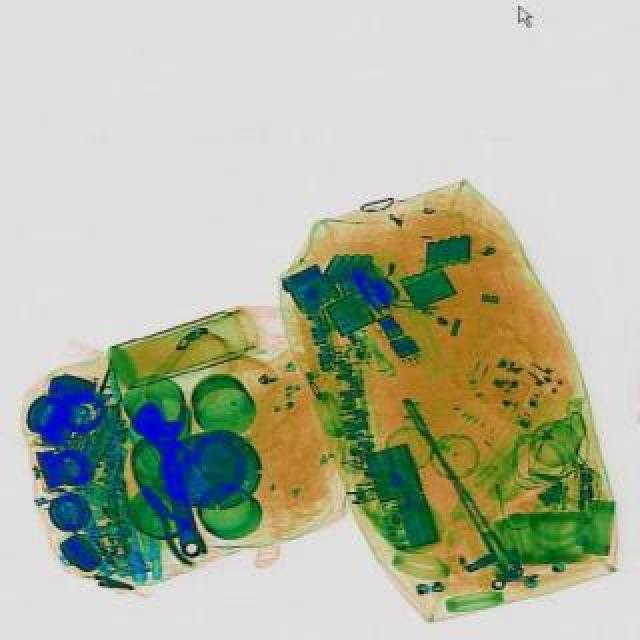scissors: (126, 396, 216, 562)
wrench: (132, 478, 210, 566)
